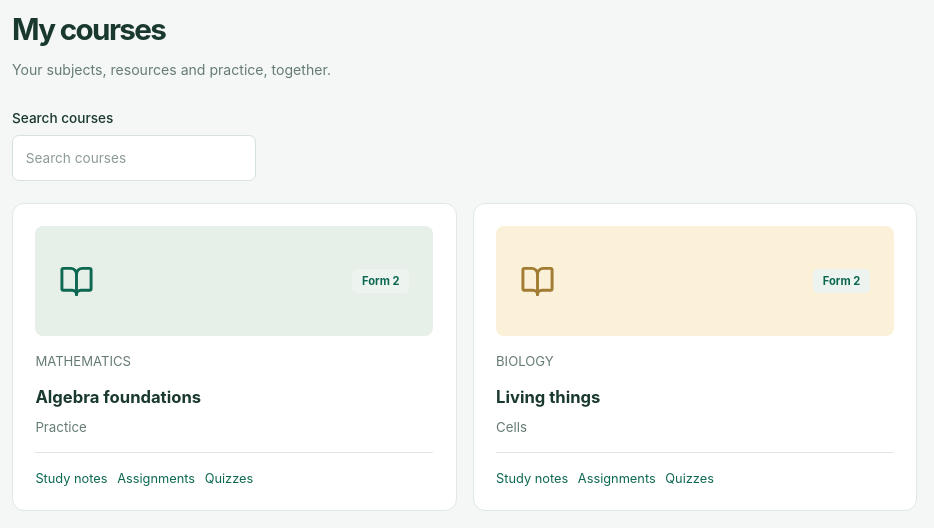
Test: real interface states › filters course cards using user input
Expected: the heading "Algebra foundations" is shown, [35, 387, 201, 407]
Step 1. Type "biology" into the search field → (134, 158), box [12, 135, 256, 181]
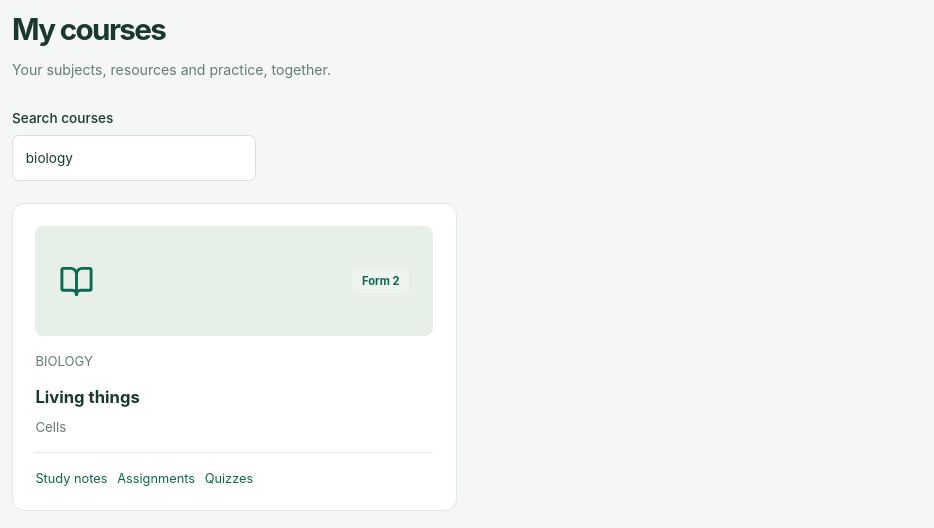
Expected: the heading "Living things" is shown, [35, 387, 140, 407]
Expected: the heading "Algebra foundations" is gone
